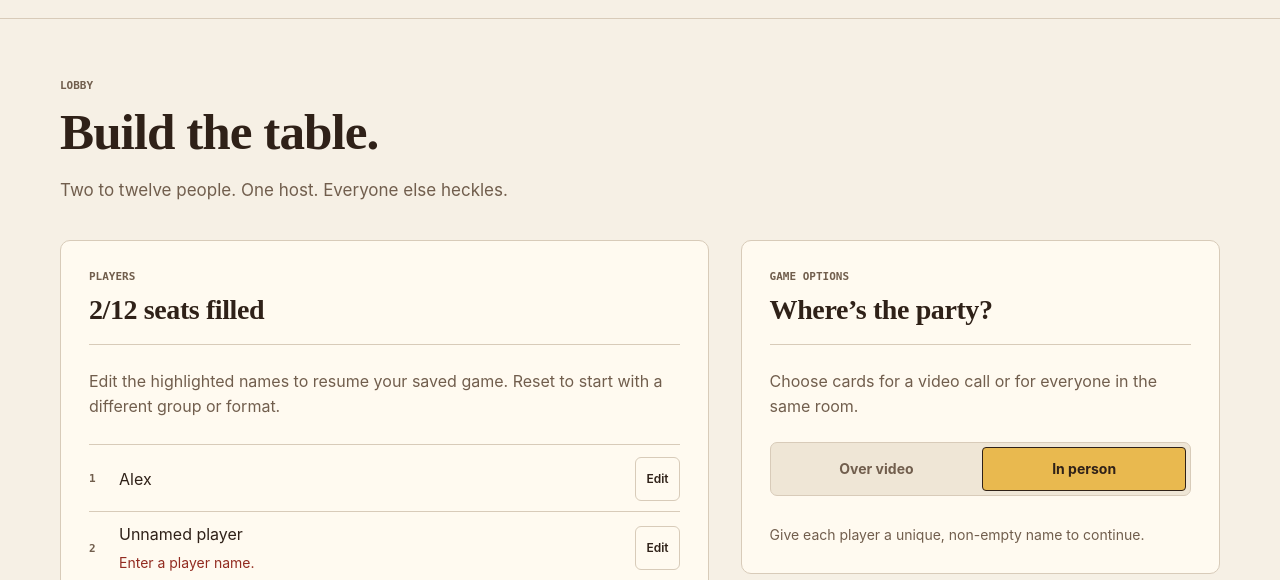
Scenario: repairing an invalid restored name  preserves the saved round
Check: the heading "Build the table." is shown, box [60, 103, 378, 160]
Click the button with aria-label "Edit player 2".
click(658, 548)  # box [636, 526, 680, 570]
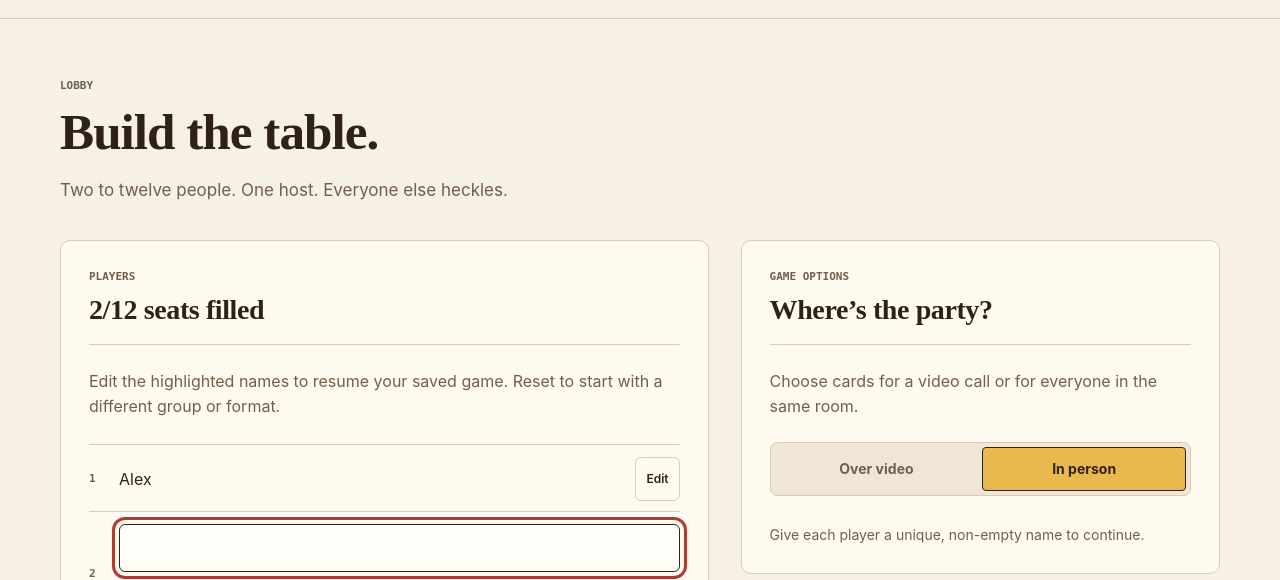
Type "Sam" into the field named "Rename player 2".
click(399, 548); type("Sam")  # box [119, 524, 680, 572]
(page scrolled)
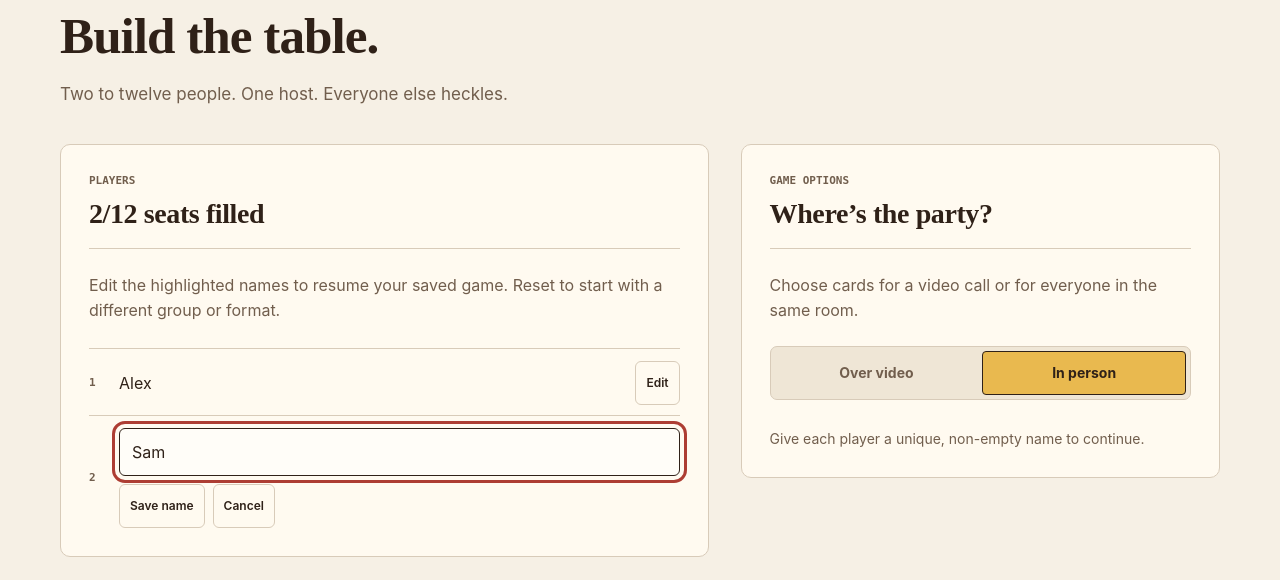
Click the button "Save name".
click(162, 506)  # box [119, 484, 205, 528]
(page scrolled)
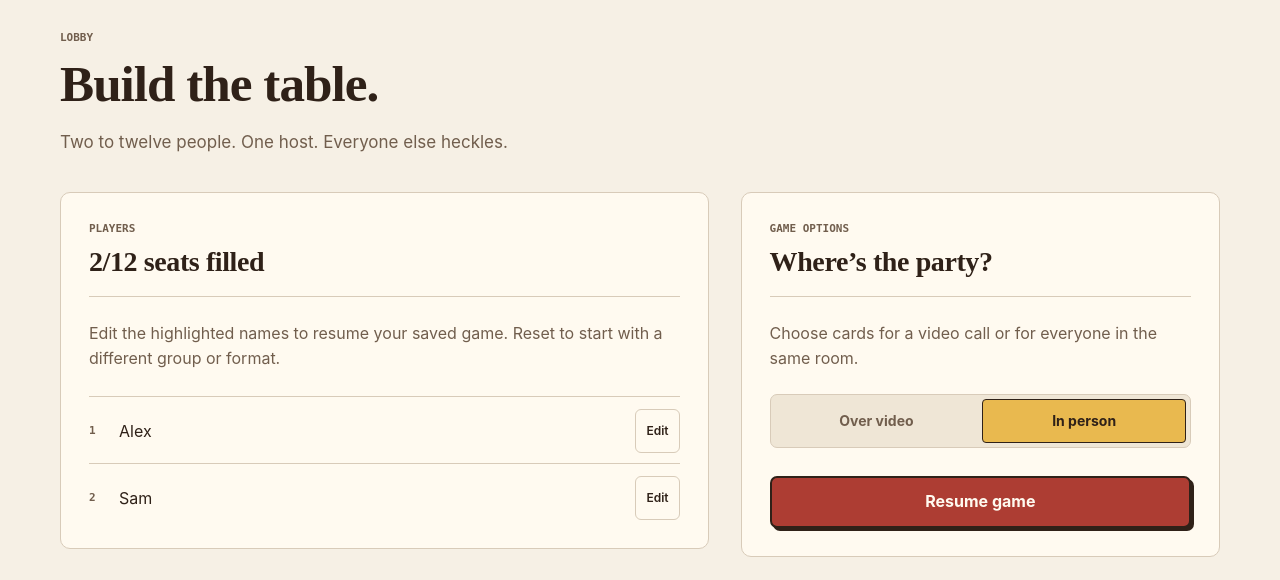
Click the button "Resume game".
click(980, 502)  # box [770, 476, 1191, 528]
(page scrolled)
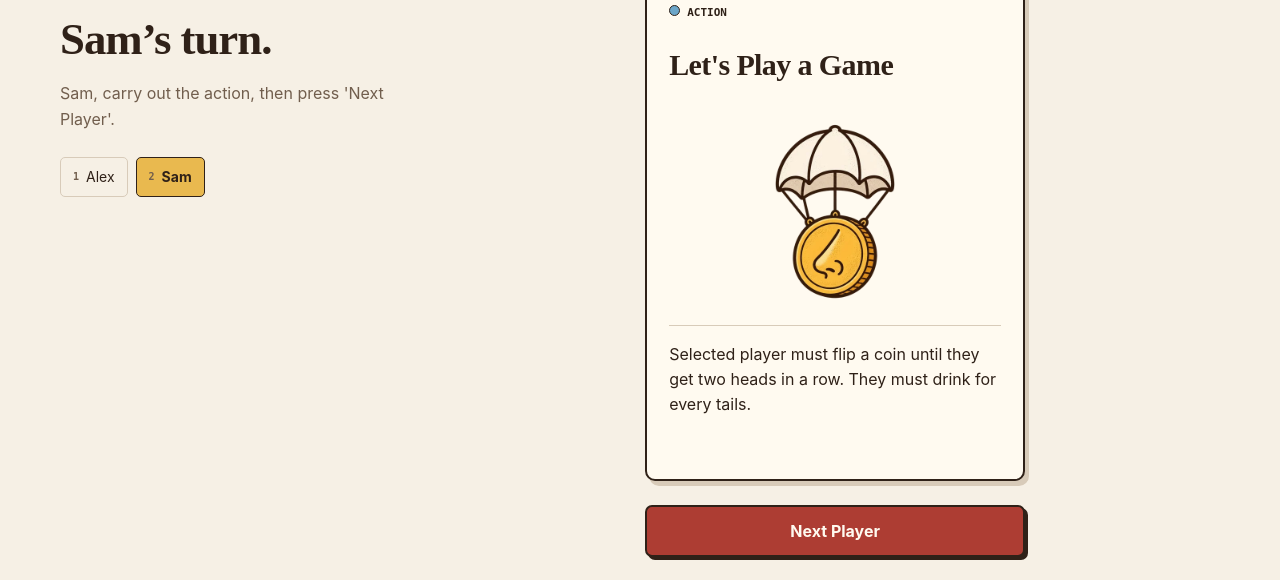
Check: the heading "Sam’s turn." is shown, box [60, 14, 271, 64]
Check: the heading "Let's Play a Game" is shown, box [669, 48, 893, 81]
